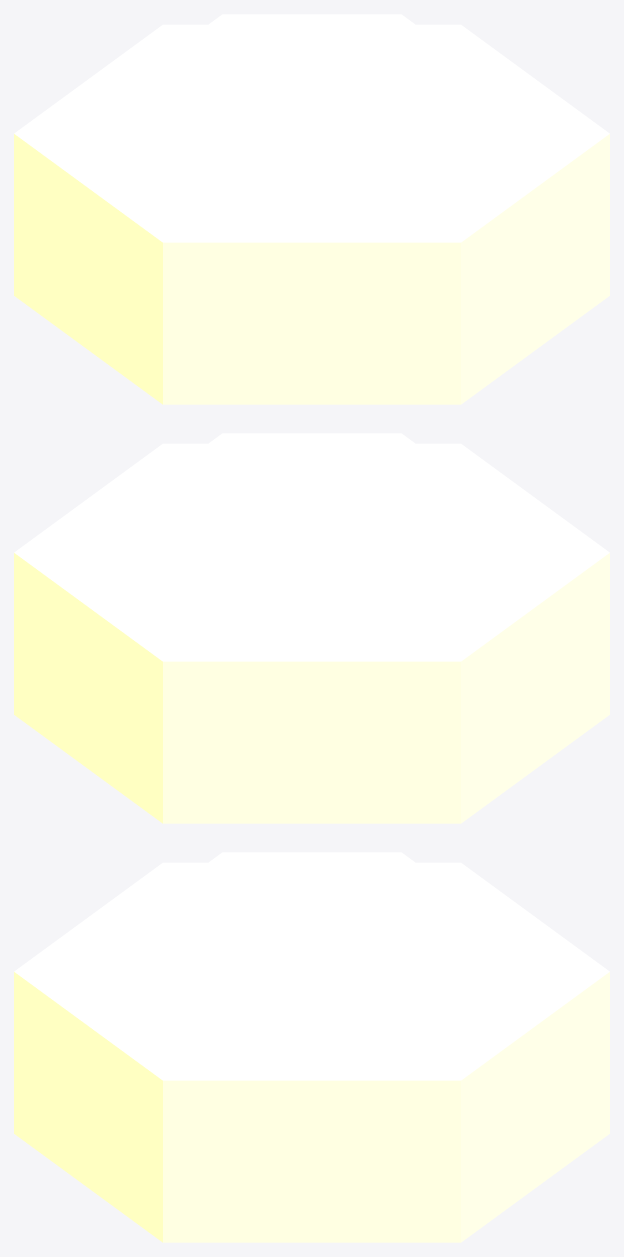
The model's file is crystal.glb.
The picture shows the model from 3 angles, top to bottom: view 1: azimuth 30°, elevation 25°; view 2: azimuth 150°, elevation 25°; view 3: azimuth 270°, elevation 25°; orthographic projection.
Parts seen in each view (by area): view 1: Crystal, TopFacet; view 2: Crystal, TopFacet; view 3: Crystal, TopFacet.
Part boxes in pixels (left/top/right/bottom): Crystal: left=14, top=24, right=609, bottom=404; TopFacet: left=133, top=14, right=490, bottom=198; Crystal: left=14, top=443, right=609, bottom=823; TopFacet: left=133, top=433, right=490, bottom=617; Crystal: left=14, top=862, right=609, bottom=1242; TopFacet: left=133, top=852, right=490, bottom=1036.
Size of the model in its own units: 0.1732 by 0.08 by 0.2.
